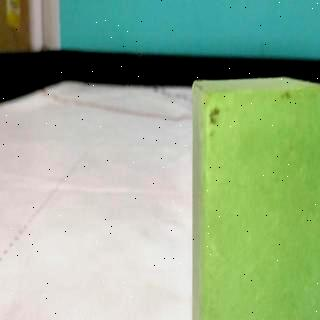greenbox: (194, 80, 320, 320)
